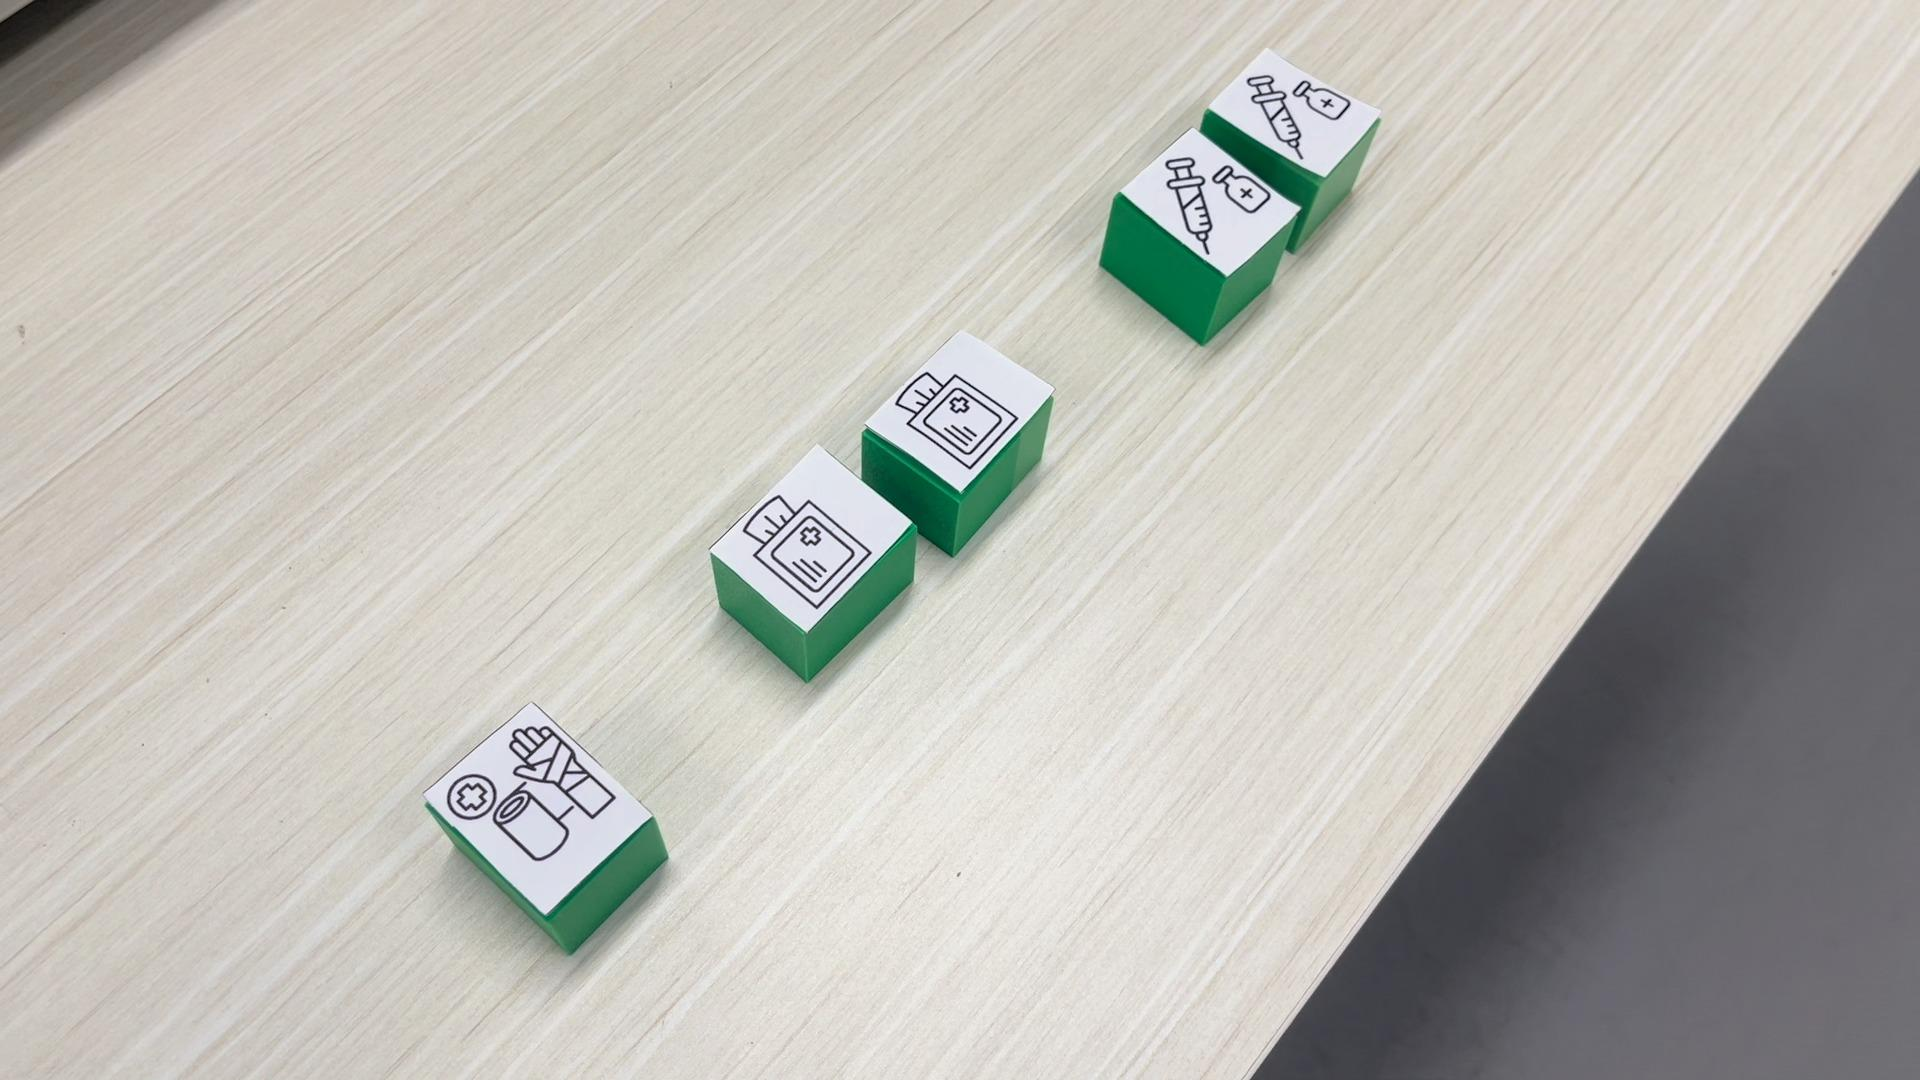Bandages: (414, 702, 669, 953)
Gauze: (709, 440, 915, 679), (858, 330, 1058, 551)
antiseptic cream: (1096, 127, 1304, 348), (1207, 42, 1385, 182)
